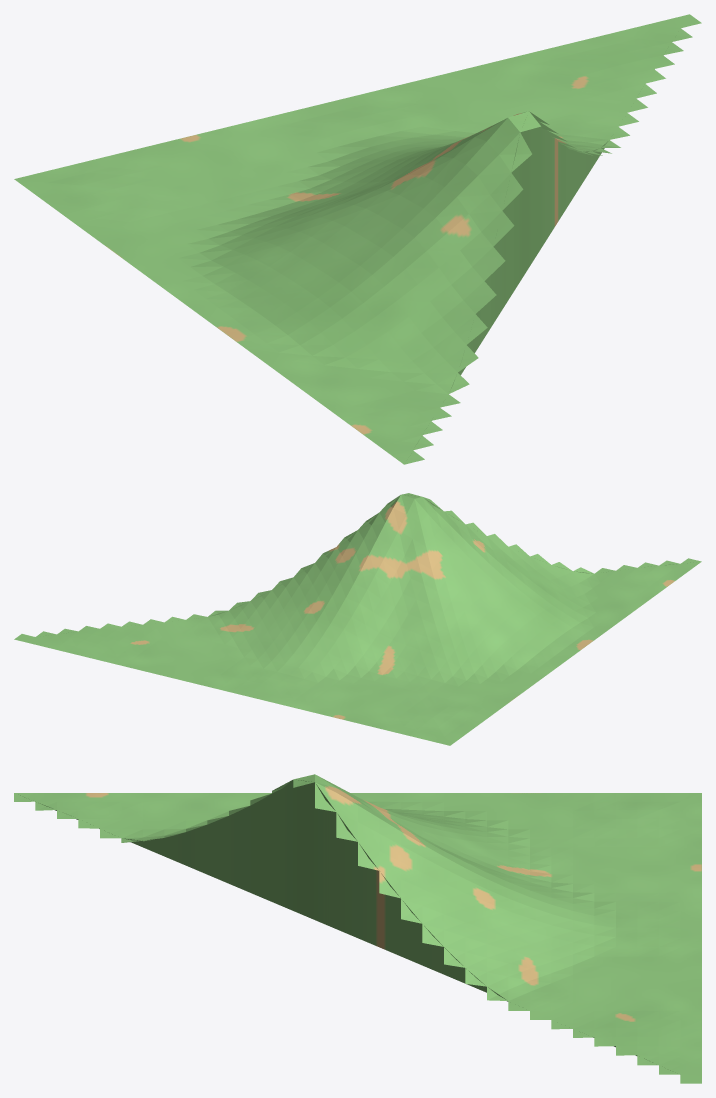
File: Grass_Hills_10_SW.obj
3 renders of one model, top to bottom at view 1: azimuth 30°, elevation 25°; view 2: azimuth 150°, elevation 25°; view 3: azimuth 270°, elevation 25°, orthographic. The views are drawn at different scales.
Bounding box in the file's own units: 10 × 2.21 × 10.
1 material, 1 textured.
